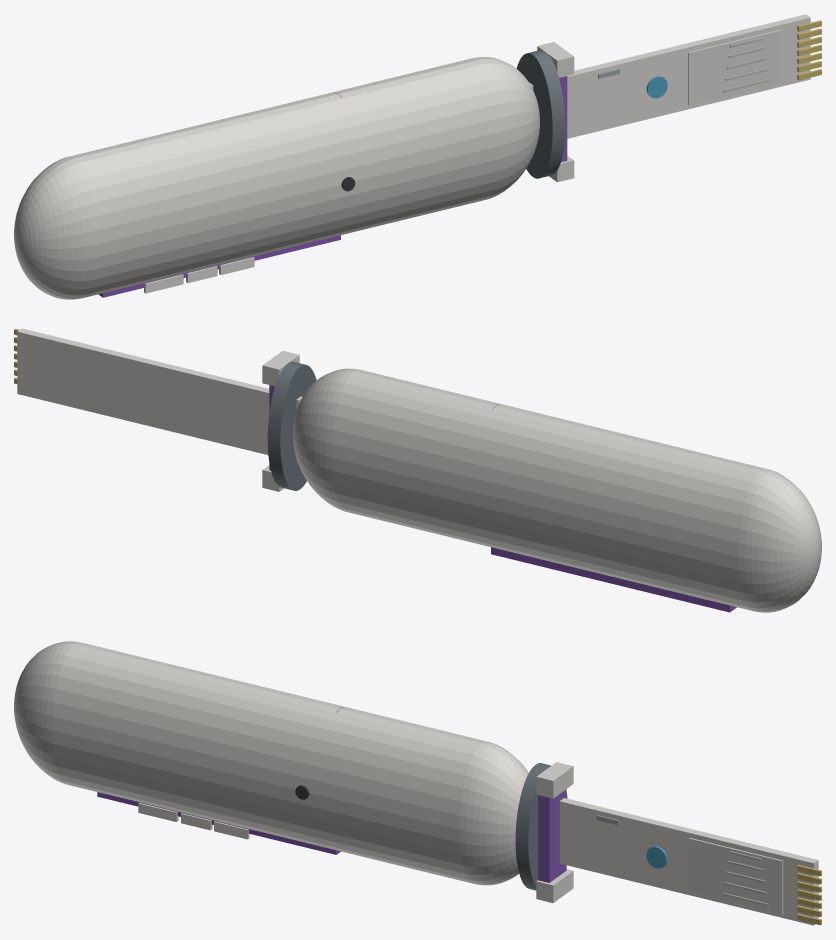
Rendered from reader-pocket-lab-poc.glb.
The picture shows the model from 3 angles, top to bottom: view 1: azimuth 30°, elevation 25°; view 2: azimuth 150°, elevation 25°; view 3: azimuth 330°, elevation 25°; orthographic projection.
Parts seen in each view (by area): view 1: reader_body_shell, sensor_strip, sensor_label_area, reader_front_dark_cap, reader_purple_side_stripe, reader_slot_side_lip_left; view 2: reader_body_shell, sensor_strip, reader_front_dark_cap, reader_purple_side_stripe, reader_slot_side_lip_left; view 3: reader_body_shell, sensor_strip, sensor_label_area, reader_front_dark_cap, reader_purple_slot, reader_slot_side_lip_left, reader_purple_side_stripe, reader_slot_side_lip_right.
Part boxes in pixels (bbox=[...]): reader_body_shell: bbox=[14, 57, 539, 299]; sensor_strip: bbox=[529, 14, 810, 138]; sensor_label_area: bbox=[688, 29, 781, 105]; reader_front_dark_cap: bbox=[516, 50, 565, 178]; reader_purple_side_stripe: bbox=[98, 235, 340, 297]; reader_slot_side_lip_left: bbox=[537, 42, 574, 77]; reader_body_shell: bbox=[293, 368, 821, 612]; sensor_strip: bbox=[17, 328, 302, 462]; reader_front_dark_cap: bbox=[267, 361, 316, 490]; reader_purple_side_stripe: bbox=[491, 547, 736, 612]; reader_slot_side_lip_left: bbox=[262, 351, 299, 386]; reader_body_shell: bbox=[14, 641, 528, 885]; sensor_strip: bbox=[559, 798, 818, 925]; sensor_label_area: bbox=[689, 838, 783, 914]; reader_front_dark_cap: bbox=[515, 763, 567, 890]; reader_purple_slot: bbox=[538, 789, 566, 882]; reader_slot_side_lip_left: bbox=[536, 762, 573, 798]; reader_purple_side_stripe: bbox=[97, 792, 340, 854]; reader_slot_side_lip_right: bbox=[536, 869, 573, 902].
Size of the model in its own units: 7.58 by 1.34 by 0.7691.
